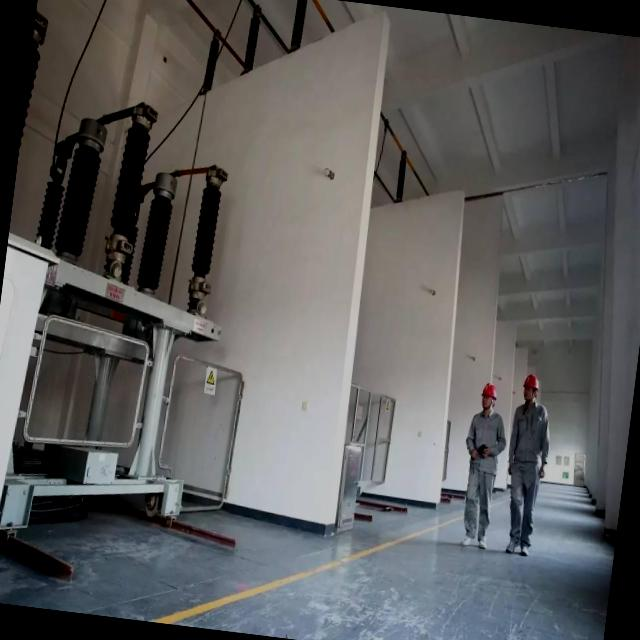helmet: (518, 370, 542, 407), (476, 376, 499, 411)
no-vest: (508, 404, 552, 478), (464, 409, 505, 477)
